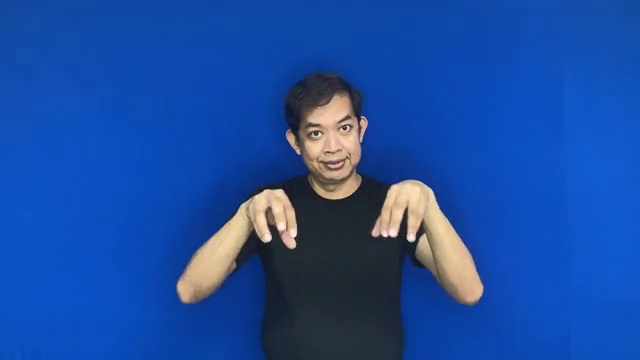egg: (236, 175, 438, 251)
